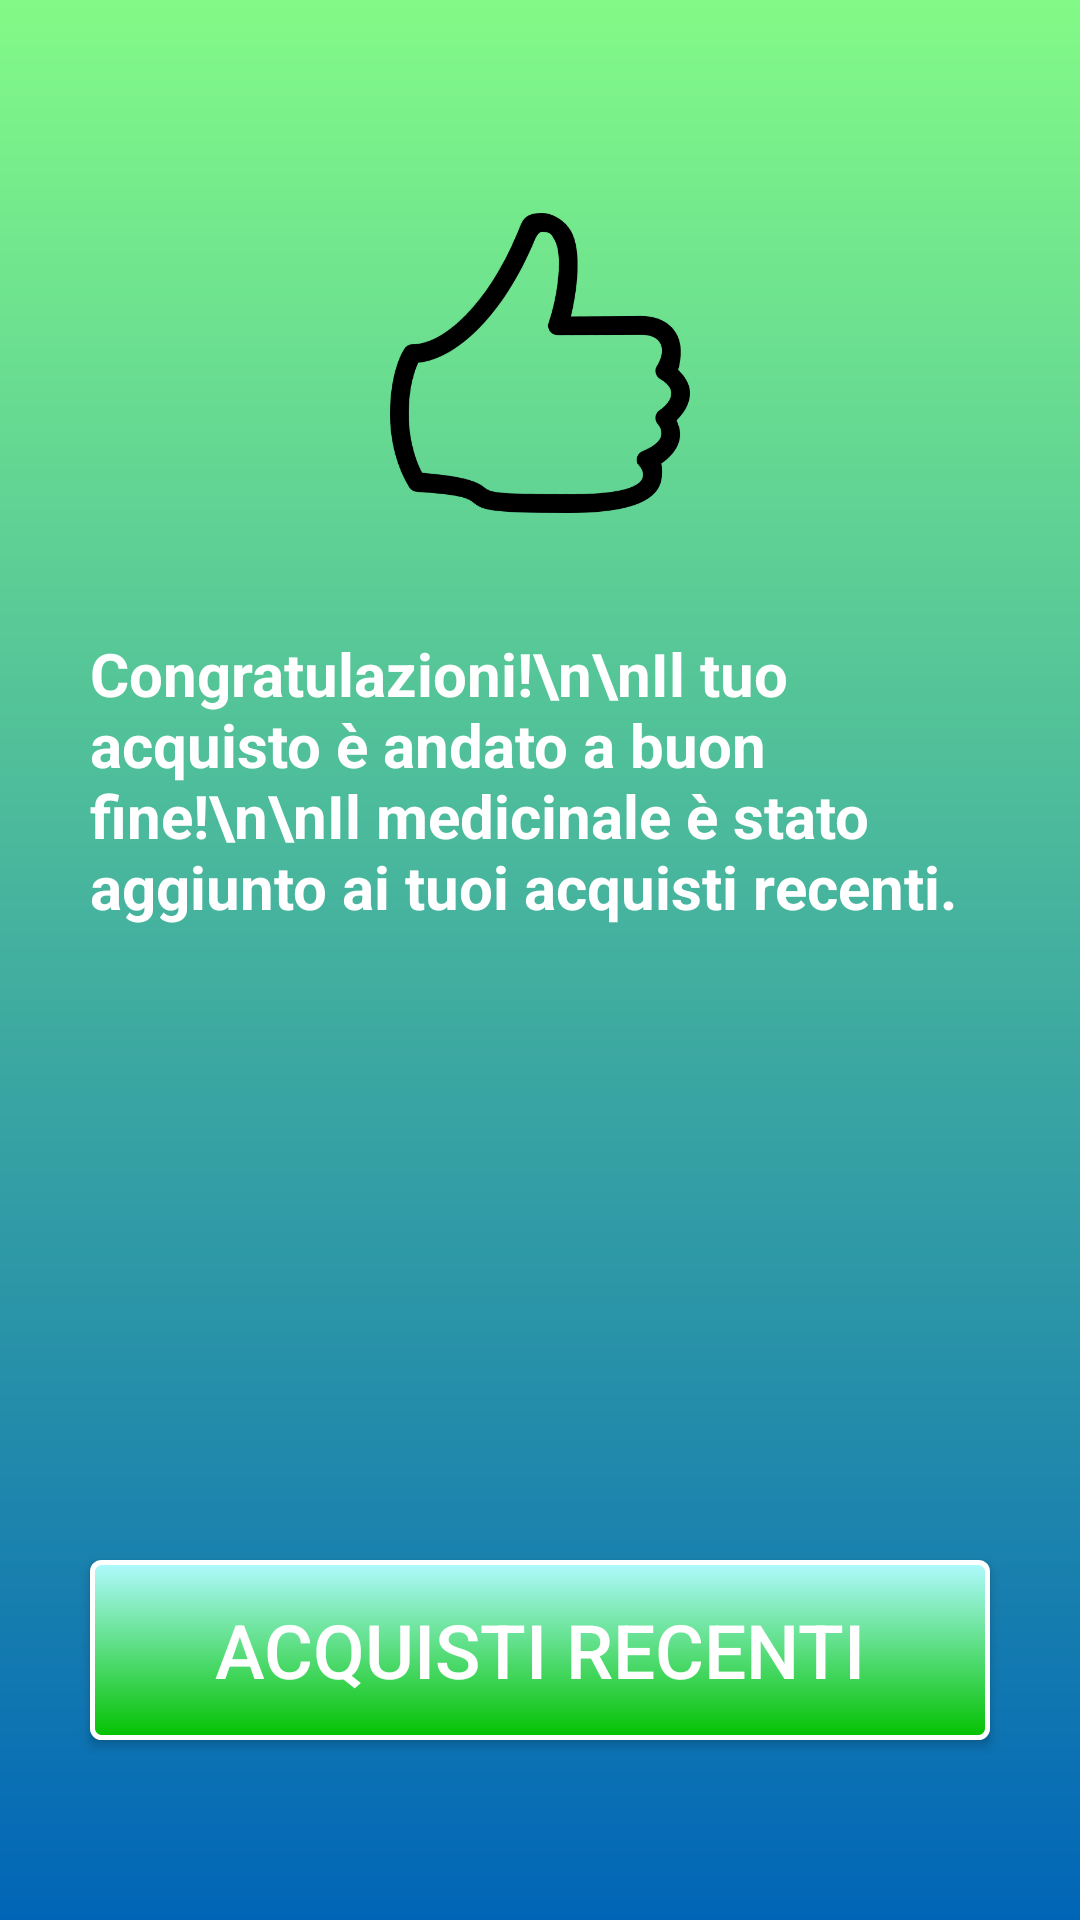

Icon bounding boxes for this 1080x1920 phone screenshot, format detection(x1, y1, x2, y2):
confirm hand: detection(390, 213, 690, 513)
